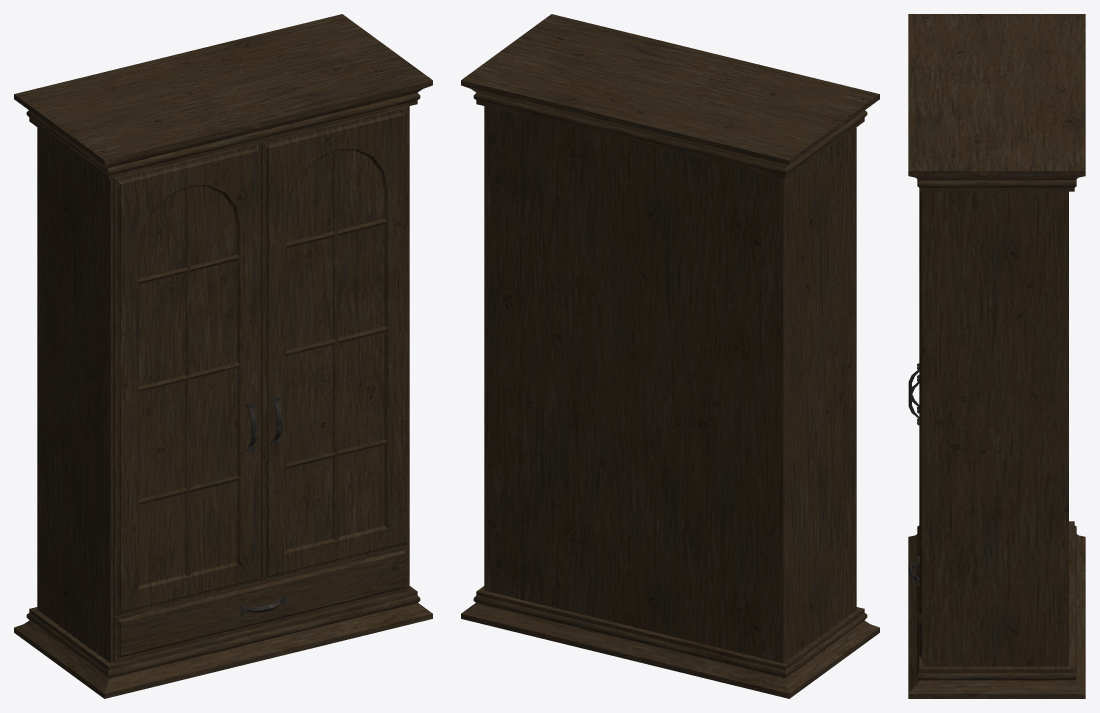
Rendered from wardrobe_mp_1_3.obj.
The picture shows the model from 3 angles, left to right: view 1: azimuth 30°, elevation 25°; view 2: azimuth 150°, elevation 25°; view 3: azimuth 270°, elevation 25°; orthographic projection. The views are drawn at different scales.
Visible parts, largest first — view 1: wardrobe_mp_1_3, wardrobe_mp_1_3_door_1, wardrobe_mp_1_3_door_2, wardrobe_mp_1_3_drawer; view 2: wardrobe_mp_1_3; view 3: wardrobe_mp_1_3, wardrobe_mp_1_3_door_2, wardrobe_mp_1_3_drawer.
Boxes of the visible parts, x1,y1,x2,y2 form: wardrobe_mp_1_3: (14,14,432,698); wardrobe_mp_1_3_door_1: (113,142,261,617); wardrobe_mp_1_3_door_2: (260,106,408,581); wardrobe_mp_1_3_drawer: (113,546,408,661); wardrobe_mp_1_3: (461,14,879,698); wardrobe_mp_1_3: (908,14,1085,698); wardrobe_mp_1_3_door_2: (908,191,924,619); wardrobe_mp_1_3_drawer: (908,556,924,662).
Size of the model in its own units: 1.34 by 2.1 by 0.64.
